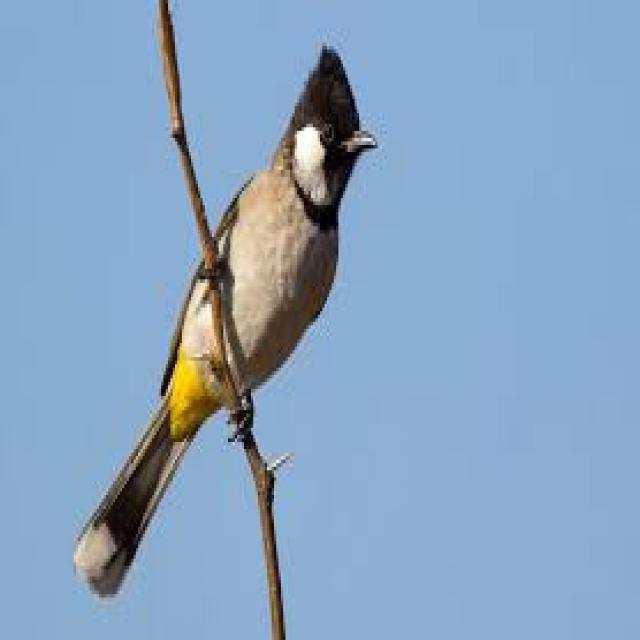bird: (75, 42, 380, 604)
